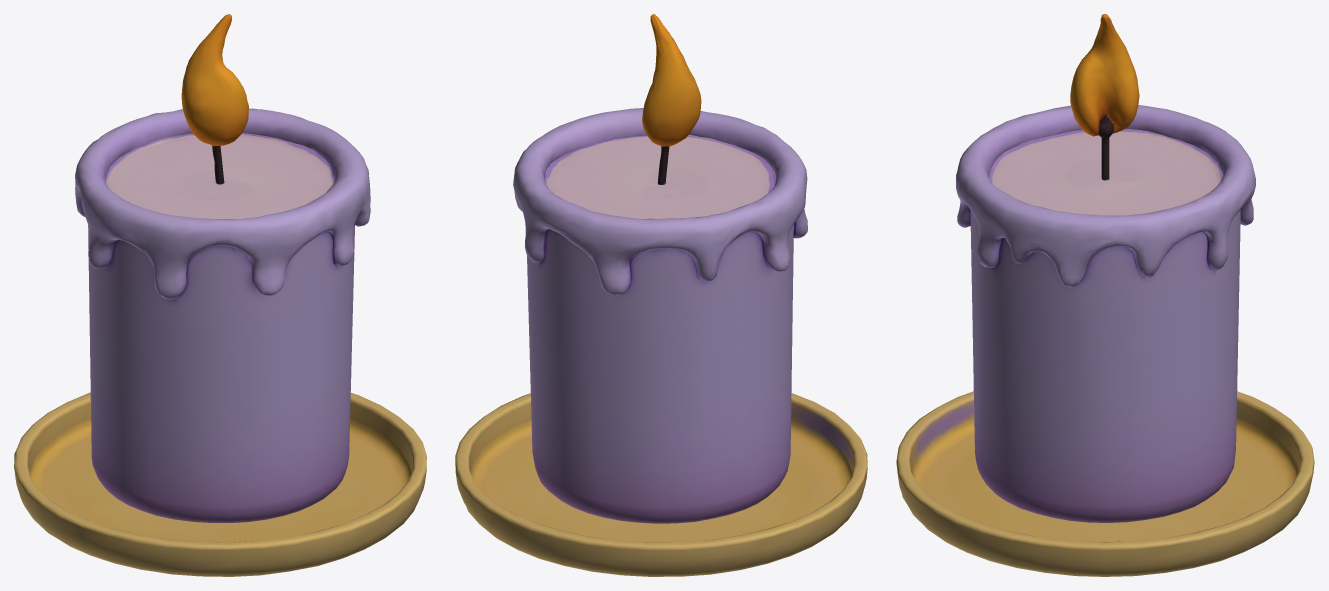
The model's file is r33-candle.glb.
3 renders of one model, left to right at view 1: azimuth 30°, elevation 25°; view 2: azimuth 150°, elevation 25°; view 3: azimuth 270°, elevation 25°, orthographic.
Visible parts, largest first — view 1: tripo_node_bf7e4e11-69d7-40ae-8927-8bb84a76581a; view 2: tripo_node_bf7e4e11-69d7-40ae-8927-8bb84a76581a; view 3: tripo_node_bf7e4e11-69d7-40ae-8927-8bb84a76581a.
Boxes of the visible parts, <box> form: tripo_node_bf7e4e11-69d7-40ae-8927-8bb84a76581a: <box>14,14,426,576</box>; tripo_node_bf7e4e11-69d7-40ae-8927-8bb84a76581a: <box>455,14,867,576</box>; tripo_node_bf7e4e11-69d7-40ae-8927-8bb84a76581a: <box>896,14,1314,576</box>.
Bounding box in the file's own units: 0.7793 × 0.998 × 0.7793.
1 material, 1 textured.
